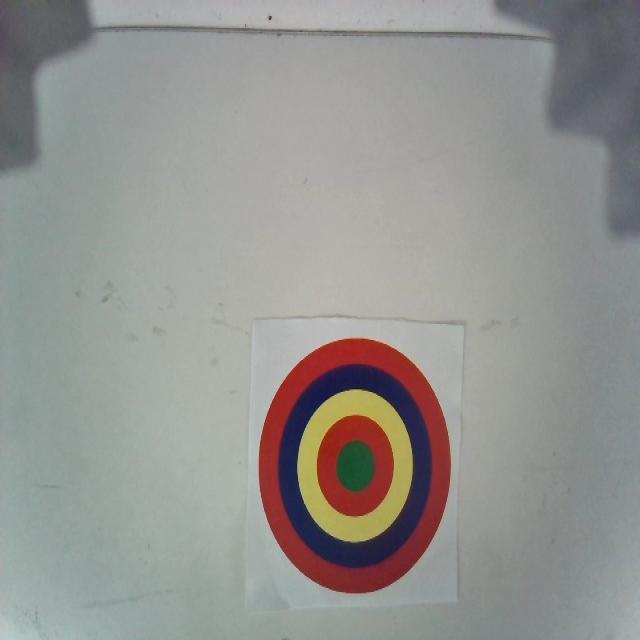cogn: (258, 334, 452, 592)
